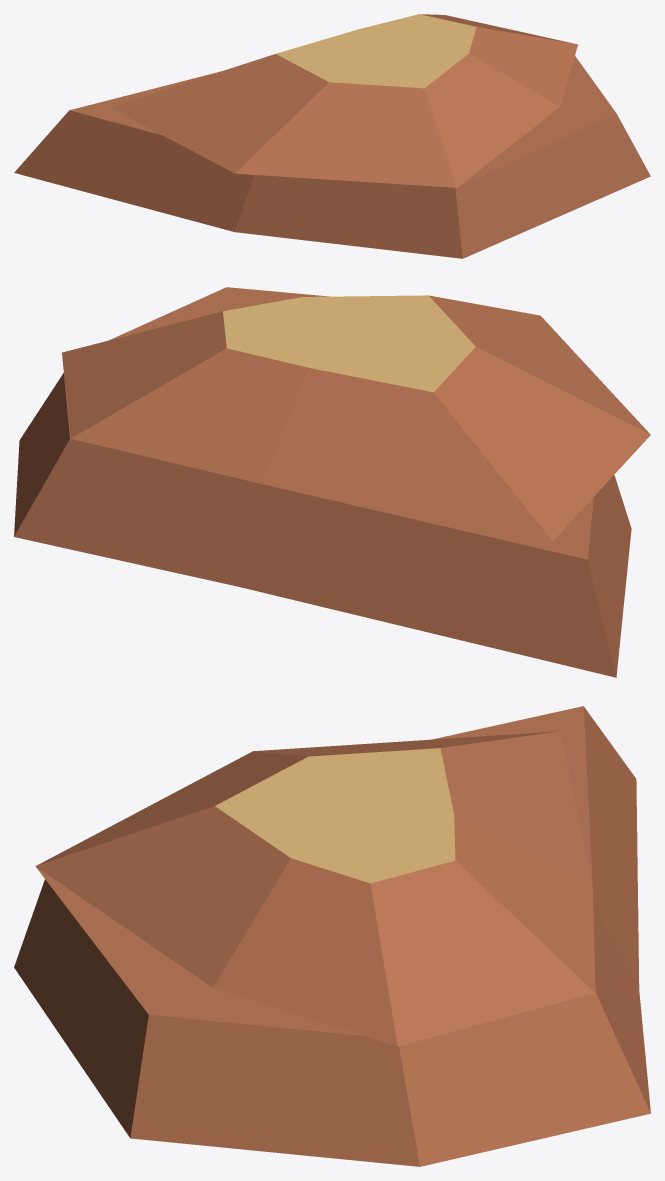
The model's file is rock_chip.glb.
The picture shows the model from 3 angles, top to bottom: view 1: azimuth 30°, elevation 25°; view 2: azimuth 150°, elevation 25°; view 3: azimuth 270°, elevation 25°; orthographic projection. The views are drawn at different scales.
Visible parts, largest first — view 1: rock_chip; view 2: rock_chip; view 3: rock_chip.
Boxes of the visible parts, left/top/right/bottom form: rock_chip: left=14, top=14, right=650, bottom=258; rock_chip: left=14, top=287, right=650, bottom=677; rock_chip: left=14, top=706, right=650, bottom=1166.
Size of the model in its own units: 0.3669 by 0.08 by 0.2547.
